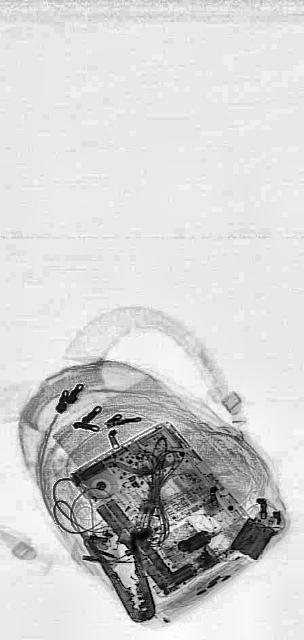Pliers: (90, 493, 162, 639)
